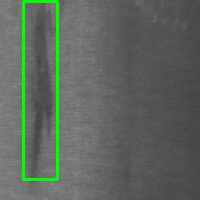inclusion: (23, 1, 57, 179)
